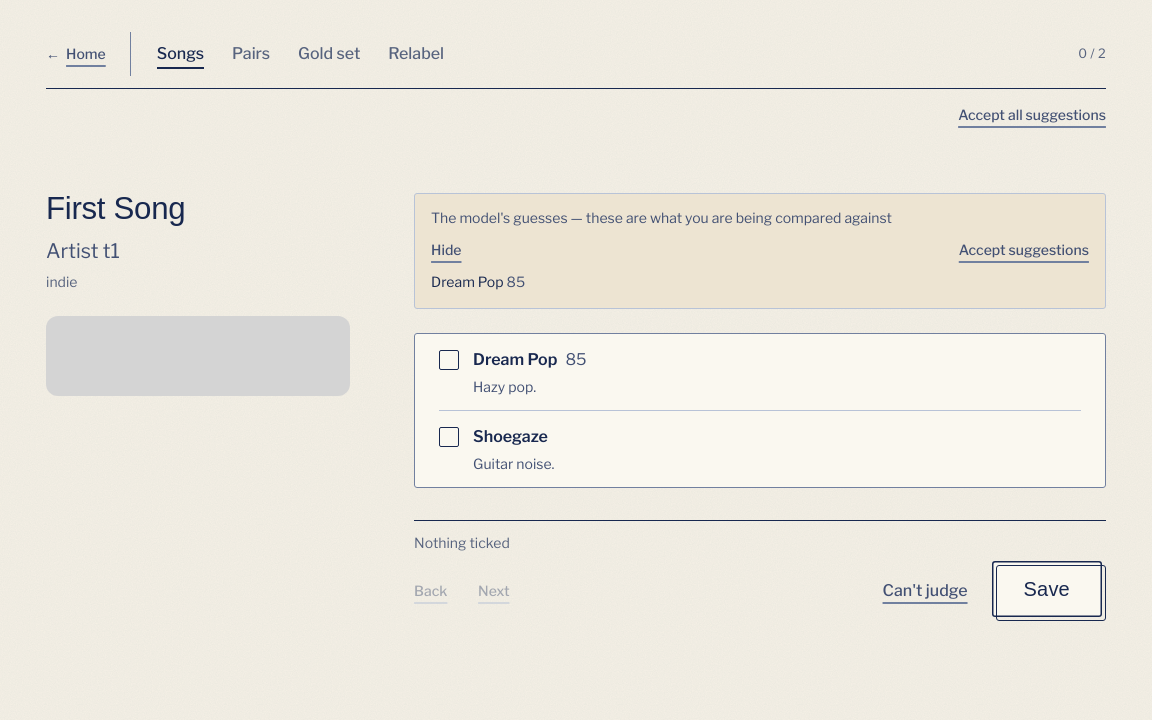
it: hiding suggestions is a session preference › Show brings them back for the rest of the session
Expected: the heading "First Song" is shown, left=46, top=191, right=185, bottom=226
Click the button "Hide". click: [453, 250]
box: left=431, top=228, right=475, bottom=272
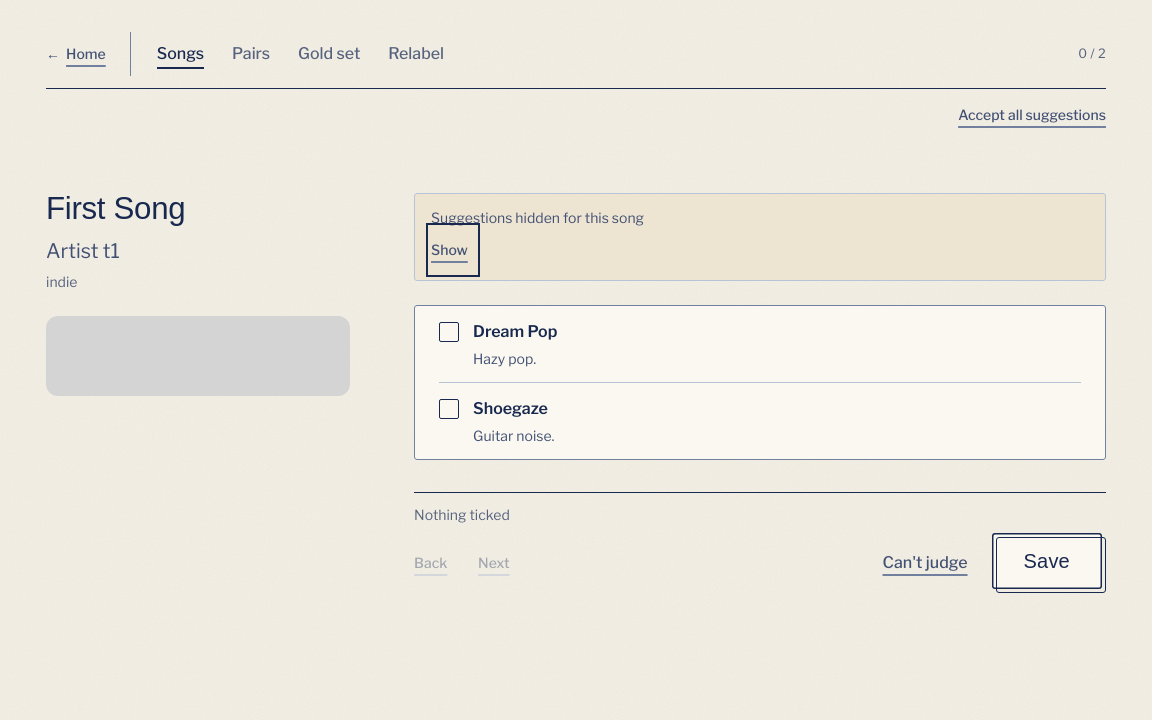
Click the button "Show". click: [453, 250]
box: left=431, top=228, right=475, bottom=272
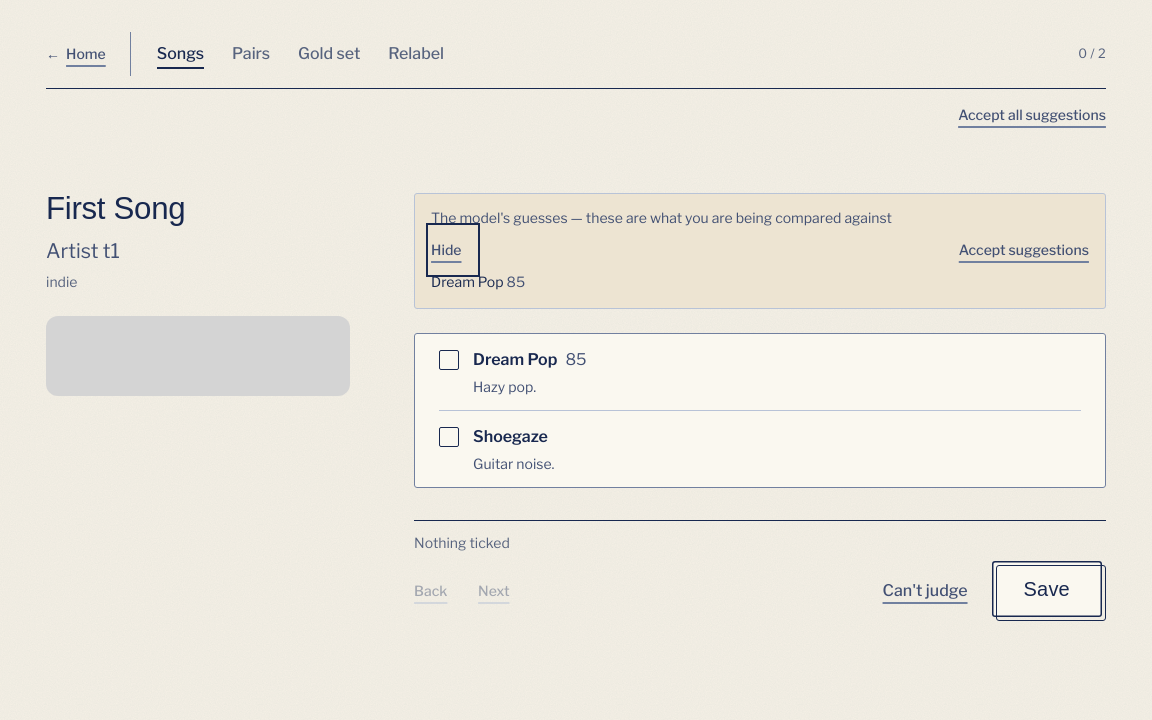
Result: the text "The model's guesses" is shown at left=431, top=209, right=892, bottom=226
Click the button "Save". click: [1047, 589]
box: left=992, top=561, right=1102, bottom=617
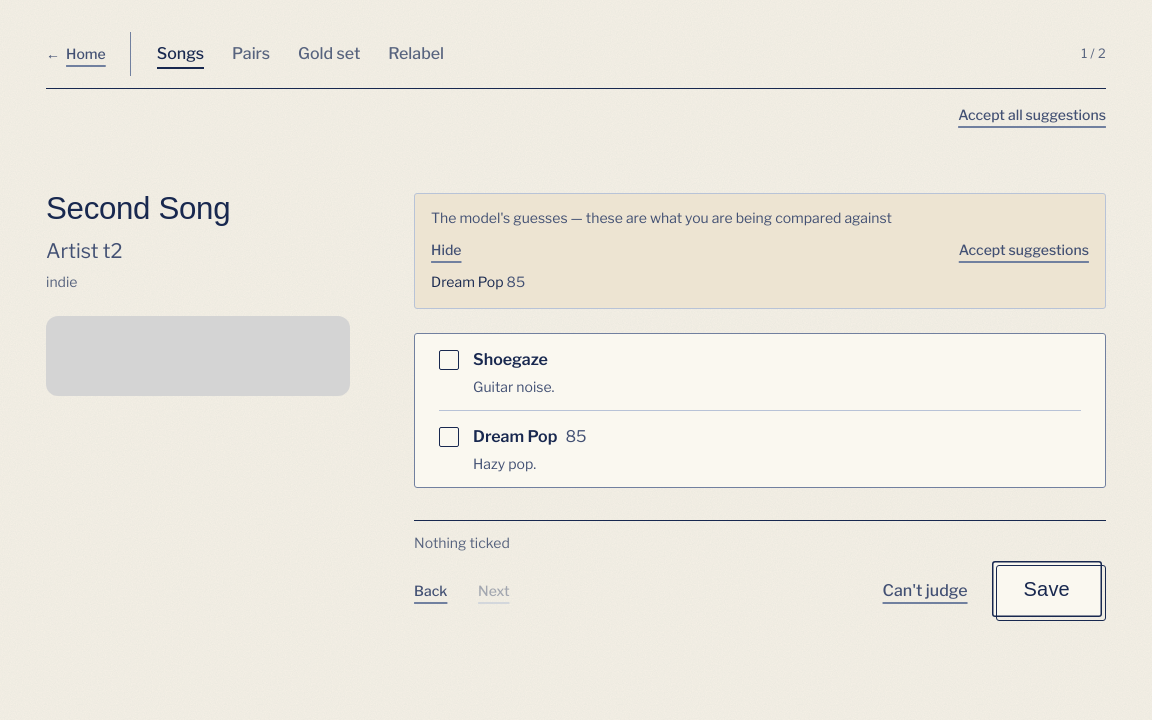
Result: the text "The model's guesses" is shown at left=431, top=209, right=892, bottom=226
Result: the heading "Second Song" is shown at left=46, top=191, right=230, bottom=226
